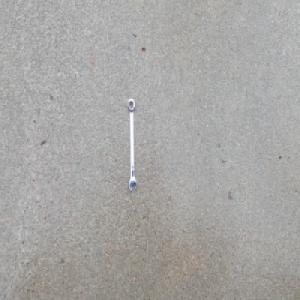Wrench: (126, 94, 137, 193)
